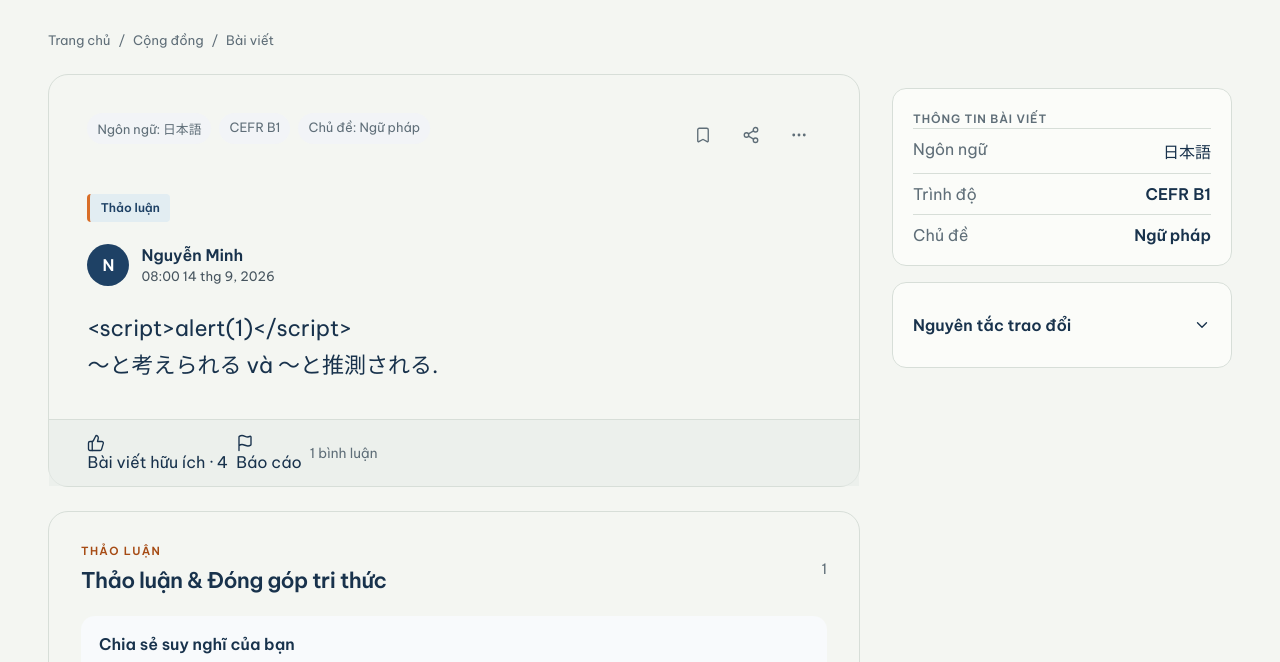
Test: CommunityPostDetailPageView › shows owner controls only for an owner post and uses the protected read
Click the button named "Tùy chọn bài viết" at (799, 135), box [777,113,821,157]
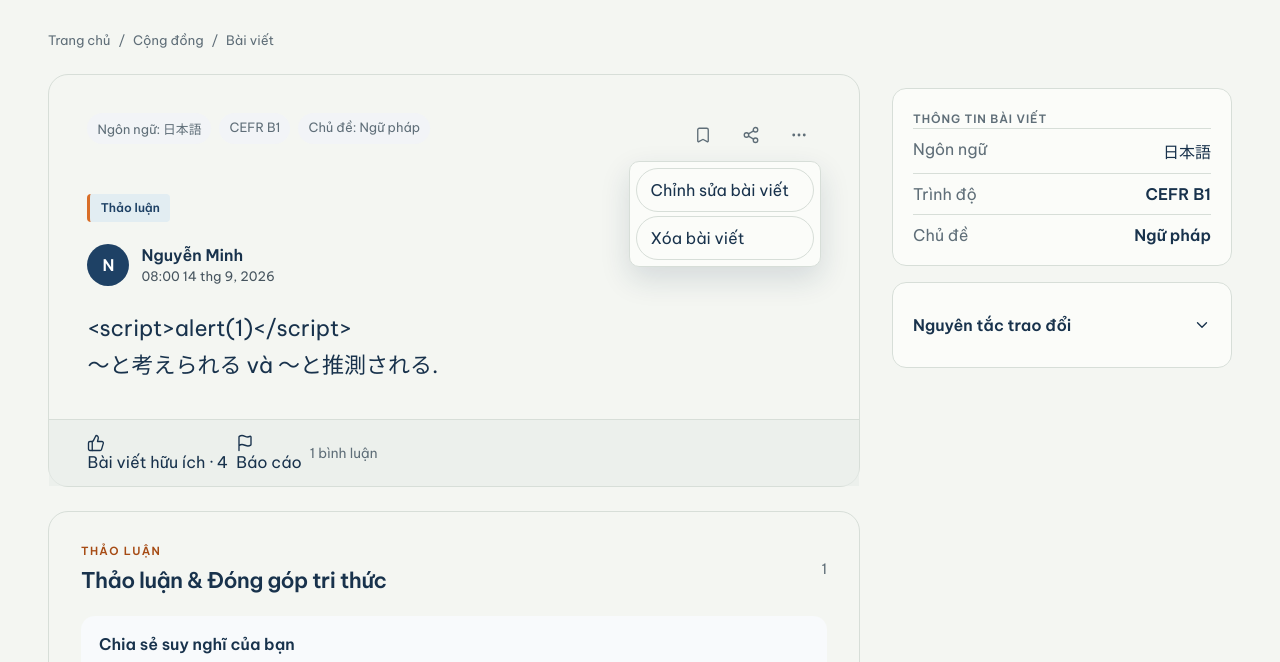
Check: the menu item "Chỉnh sửa bài viết" is shown, box [636,168,814,212]
Check: the menu item "Xóa bài viết" is shown, box [636,216,814,260]
